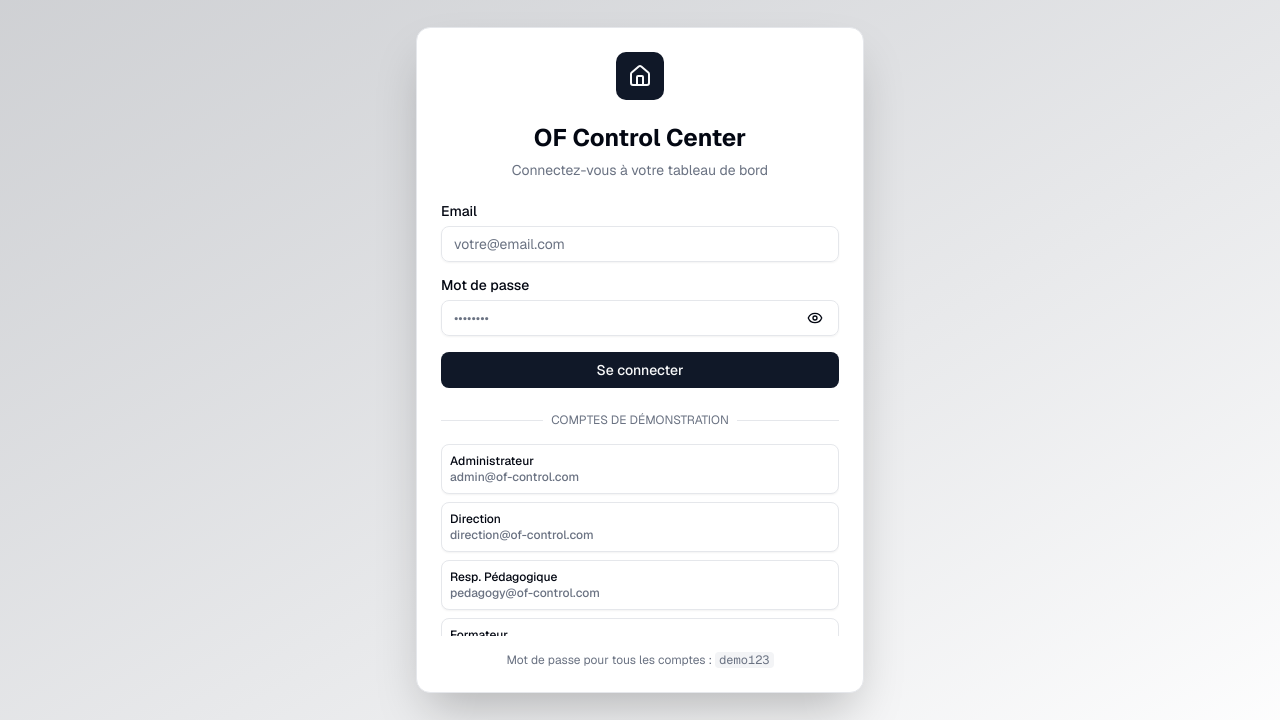
it: LoginForm › validates required fields
Click the button "Se connecter" at (640, 370), box 441,352 -> 839,388
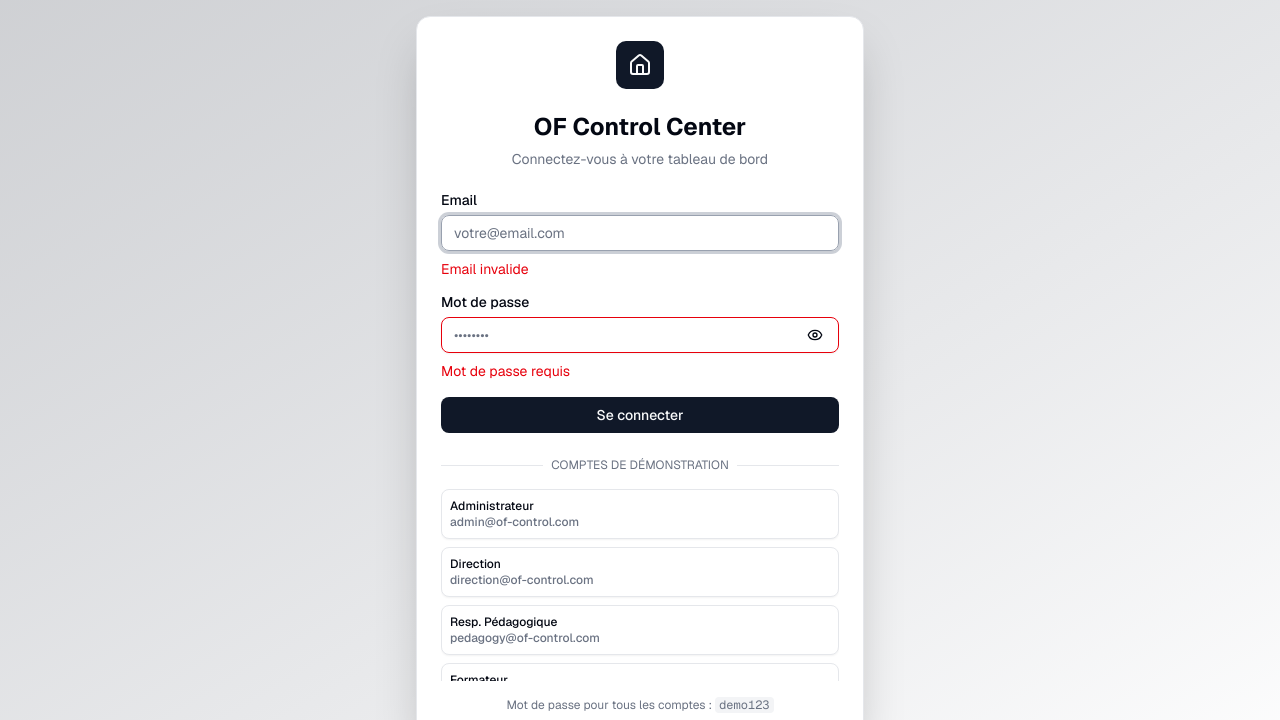
Check: the text "Email invalide" is shown, box 441,260 -> 529,278
Check: the text "Mot de passe requis" is shown, box 441,362 -> 570,380
